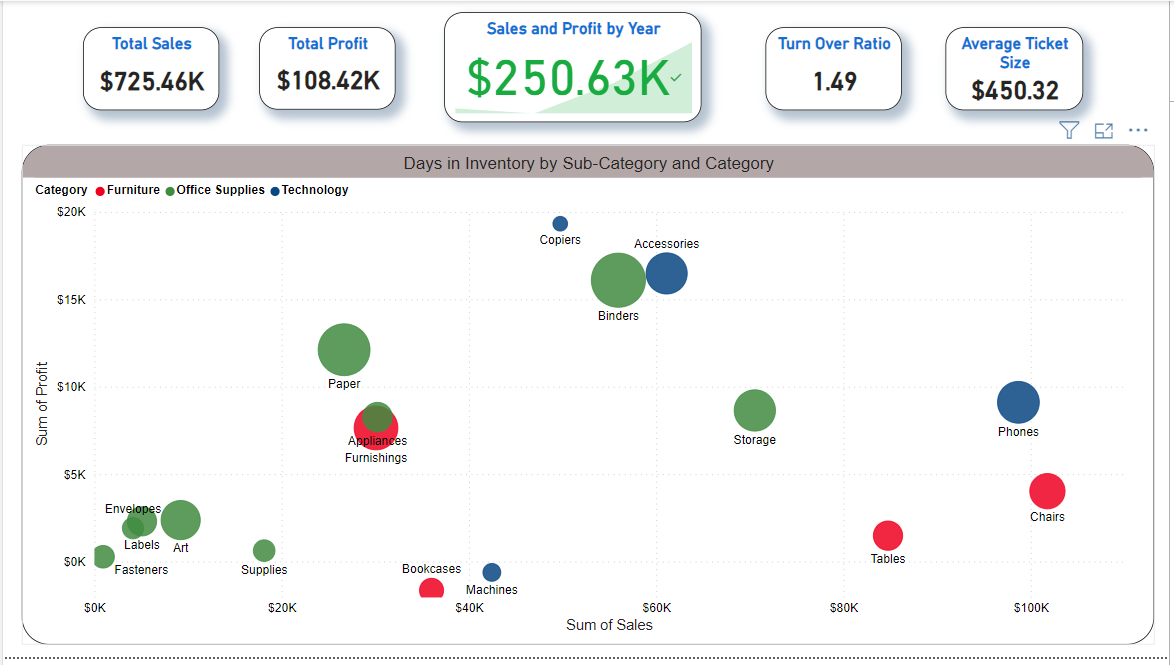

What the dashboard file says about the page in this screenshot:
{"tool":"powerbi","page":{"name":"Inventory_Analaysis","canvas":[1280,720],"ordinal":5},"visuals":[{"type":"scatterChart","title":" Days in Inventory by Sub-Category and Category","fields":{"Category":["Walmart.Sub-Category"],"X":["Sum(Walmart.Sales)"],"Y":["Sum(Walmart.Profit)"],"Series":["Walmart.Category"],"Size":["Sum(Walmart.Quantity)"]},"box":[20.6,157.8,1243.2,548.9],"z":0},{"type":"card","title":"Total Sales","fields":{"Values":["Sum(Walmart.Sales)"]},"box":[88.4,28.5,149.7,91.2],"z":1000},{"type":"card","title":"Total Profit","fields":{"Values":["Sum(Walmart.Profit)"]},"box":[281.3,28.8,149.6,90.6],"z":2000},{"type":"card","title":"Turn Over Ratio","fields":{"Values":["WALMART_2.Turn Over Ratio"]},"box":[836.7,28.5,149.7,91.2],"z":3000},{"type":"kpi","title":"Sales and Profit by Year ","fields":{"Indicator":["Sum(Walmart.Sales)"],"TrendLine":["Walmart.Order Date.Variation.Date Hierarchy.Year"],"Goal":["WALMART_2.Target"]},"box":[484.6,12.8,282.2,121.2],"z":4000},{"type":"card","title":"Average Ticket Size","fields":{"Values":["Avg(WALAMART_2.Total_Sales)"]},"box":[1034.8,28.5,151.1,91.2],"z":5000}]}

Visuals, with their boxes in screenshot pixels (x1, y1, x2, y2), scaled from the page's 1280x720 canvas onto the 1174x665 screenshot:
" Days in Inventory by Sub-Category and Category" scatterChart: pyautogui.locateOnScreen(19, 146, 1159, 653)
"Total Sales" card: pyautogui.locateOnScreen(81, 26, 218, 111)
"Total Profit" card: pyautogui.locateOnScreen(258, 27, 395, 110)
"Turn Over Ratio" card: pyautogui.locateOnScreen(767, 26, 905, 111)
"Sales and Profit by Year " kpi: pyautogui.locateOnScreen(444, 12, 703, 124)
"Average Ticket Size" card: pyautogui.locateOnScreen(949, 26, 1088, 111)
